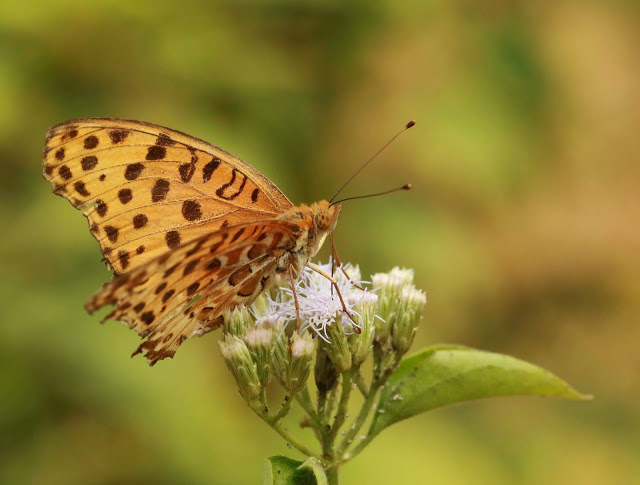Argyreus hyperbius: (38, 92, 423, 375)
butterfly: (36, 90, 421, 373)
